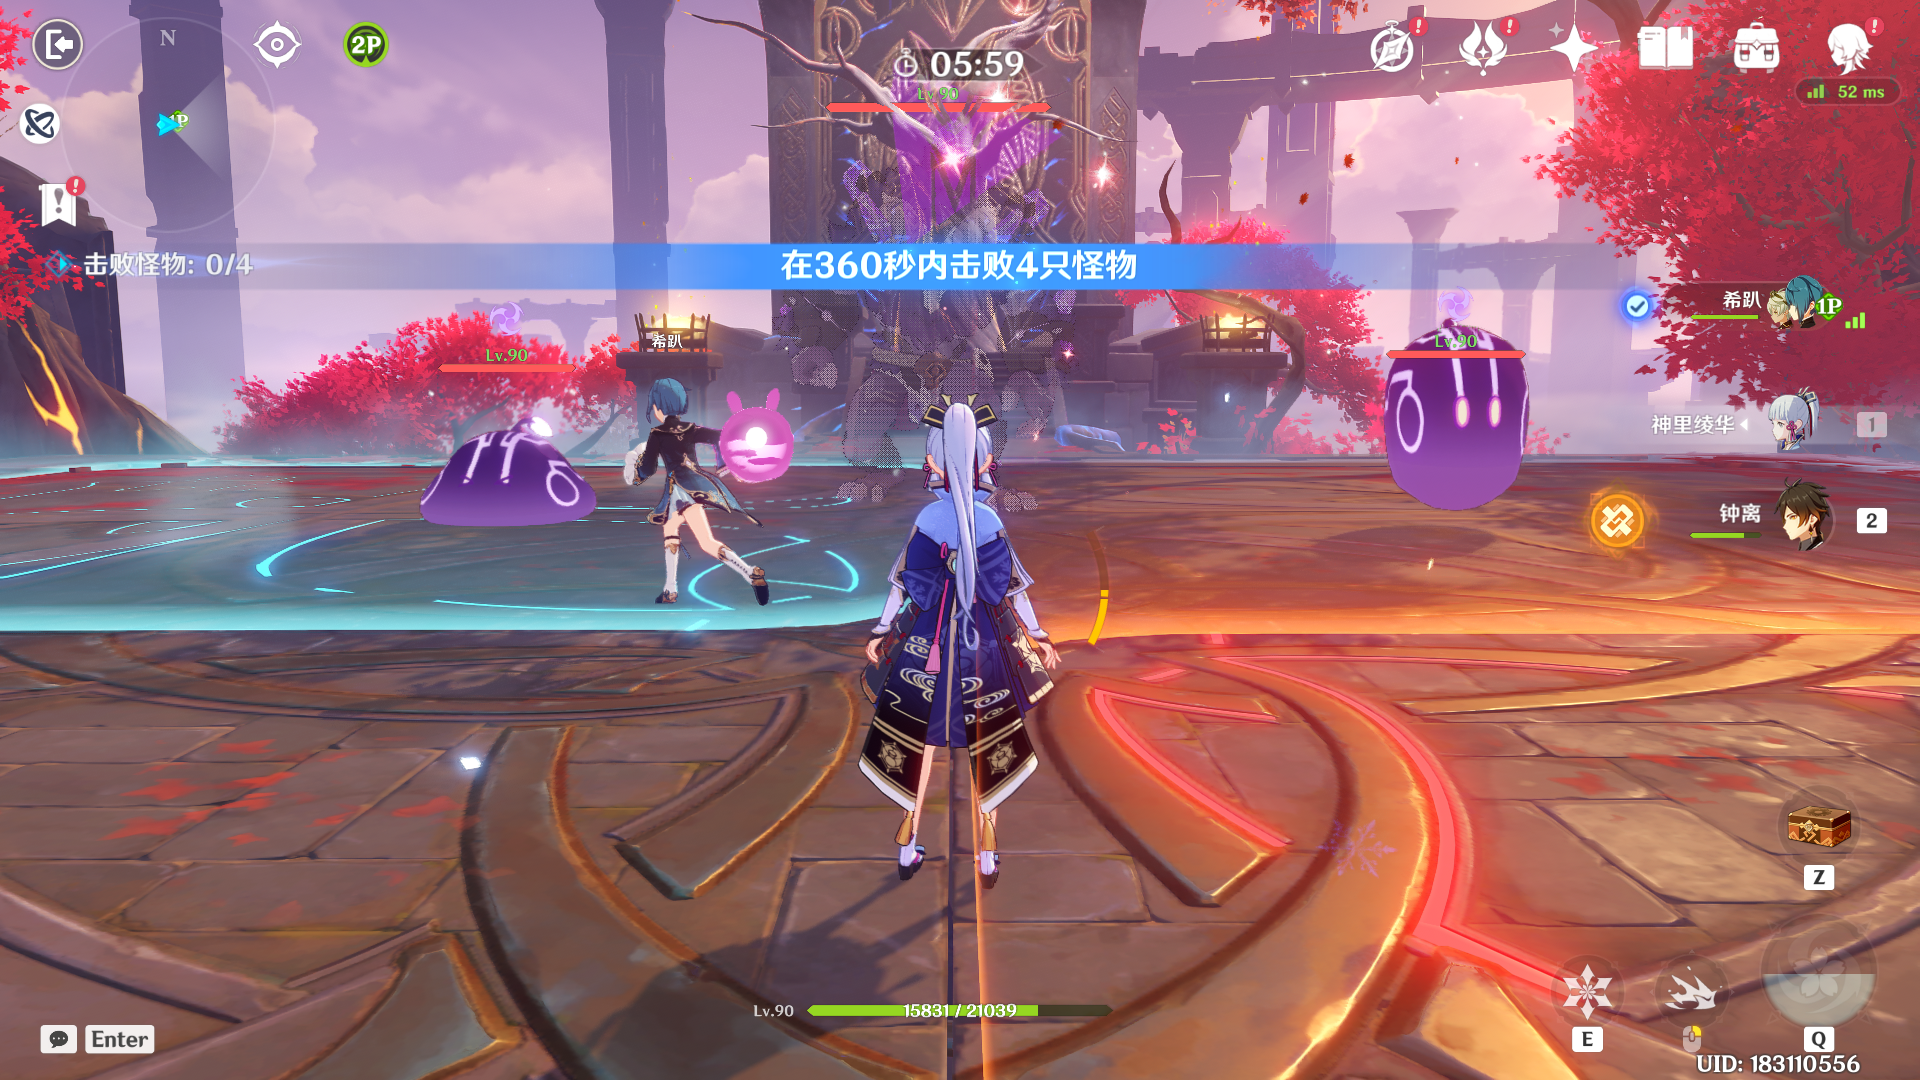character: (829, 386, 1073, 902), (600, 367, 790, 637)
slime: (1358, 309, 1561, 574), (397, 415, 613, 550)
